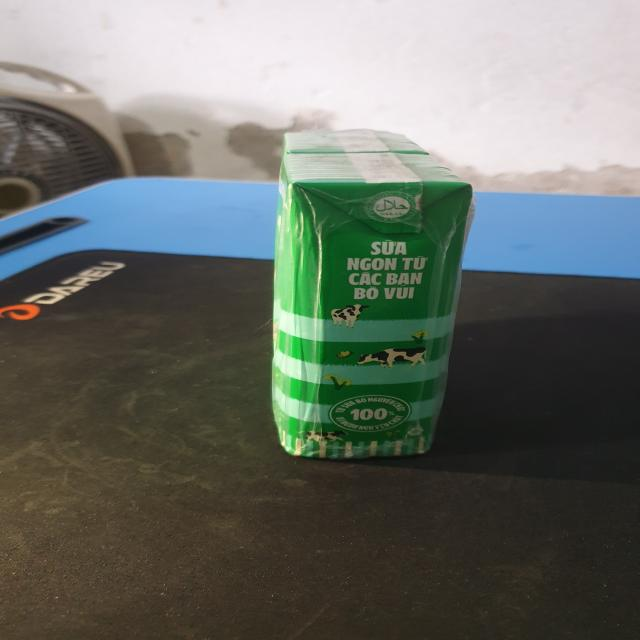Vina: (269, 153, 478, 457), (283, 130, 426, 154)
